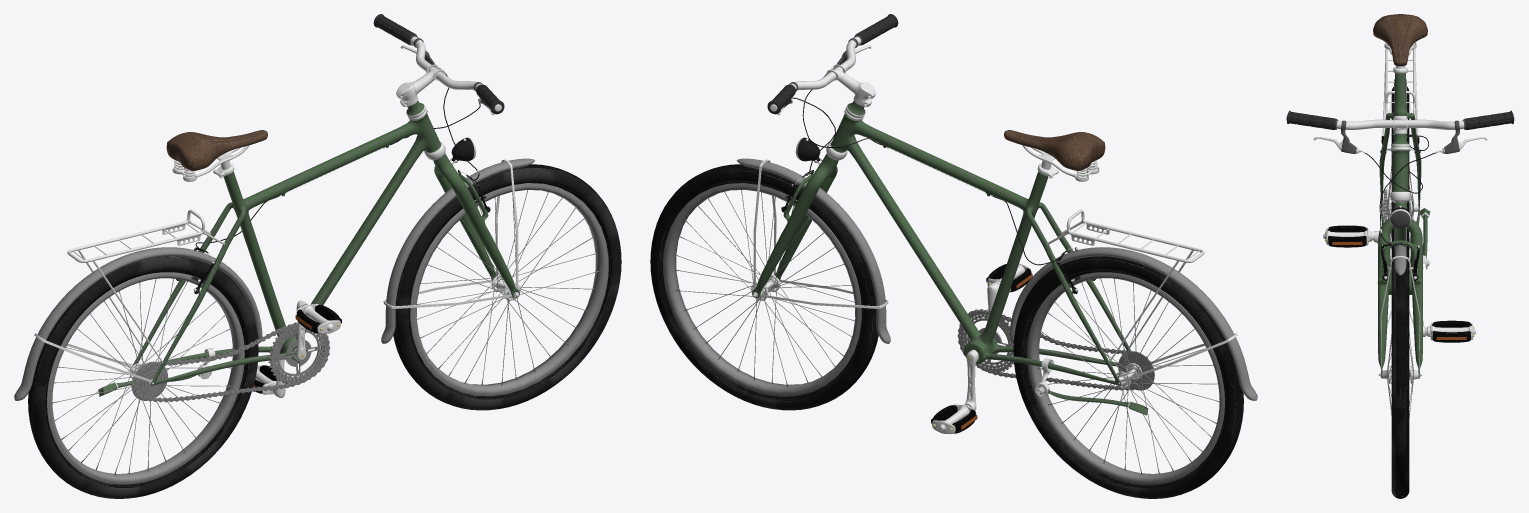
File: old_bike (2).glb
3 renders of one model, left to right at view 1: azimuth 30°, elevation 25°; view 2: azimuth 150°, elevation 25°; view 3: azimuth 270°, elevation 25°, orthographic. The views are drawn at different scales.
Visible parts, largest first — view 1: Wheels_Wheels_0, Base_Base_0, Pedals_Details_0, Handlebar_Handle_0, Chains_Chains_0, Saddle_Saddle_0; view 2: Wheels_Wheels_0, Base_Base_0, Pedals_Details_0, Handlebar_Handle_0, Chains_Chains_0, Saddle_Saddle_0; view 3: Handlebar_Handle_0, Wheels_Wheels_0, Base_Base_0, Pedals_Details_0, Saddle_Saddle_0, Chains_Chains_0, Brake_Joint Brake_0.
Part boxes in pixels (<box>): Wheels_Wheels_0: <box>28,164,621,498</box>; Base_Base_0: <box>67,110,445,385</box>; Pedals_Details_0: <box>14,158,534,400</box>; Handlebar_Handle_0: <box>373,14,519,298</box>; Chains_Chains_0: <box>131,68,480,402</box>; Saddle_Saddle_0: <box>166,130,267,181</box>; Wheels_Wheels_0: <box>650,164,1243,498</box>; Base_Base_0: <box>826,110,1204,397</box>; Pedals_Details_0: <box>737,158,1257,434</box>; Handlebar_Handle_0: <box>752,14,898,298</box>; Chains_Chains_0: <box>791,68,1154,390</box>; Saddle_Saddle_0: <box>1004,130,1105,181</box>; Handlebar_Handle_0: <box>1286,110,1514,378</box>; Wheels_Wheels_0: <box>1378,87,1422,498</box>; Base_Base_0: <box>1379,49,1429,294</box>; Pedals_Details_0: <box>1323,79,1475,370</box>; Saddle_Saddle_0: <box>1373,14,1427,73</box>; Chains_Chains_0: <box>1361,134,1439,244</box>; Brake_Joint Brake_0: <box>1380,134,1420,280</box>.
Bounding box in the file's own units: 430 × 248 × 149.
Materials: 7 (7 with a texture image).
